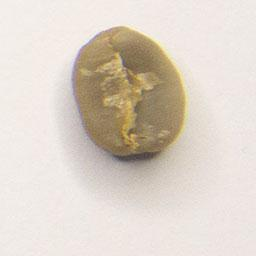premium: (69, 22, 189, 160)
